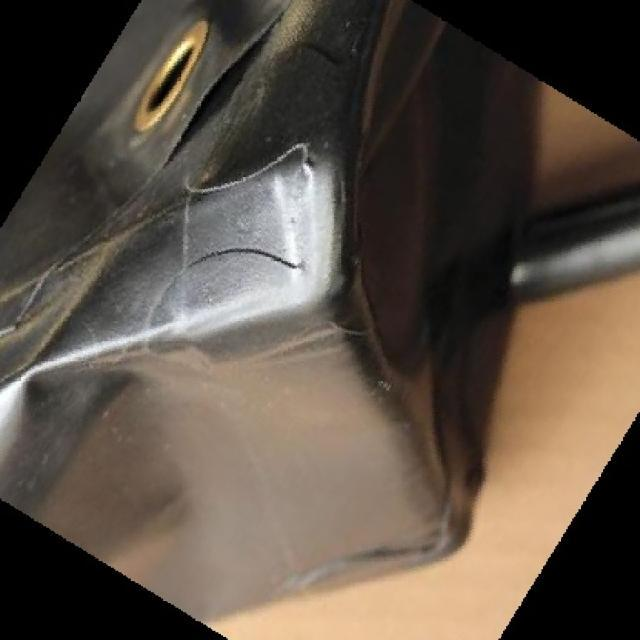crack: (152, 237, 315, 286)
